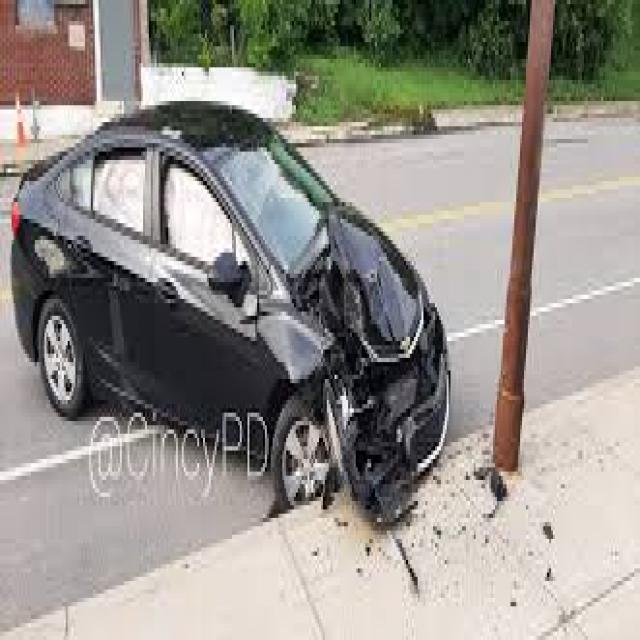accident: (24, 110, 470, 535)
